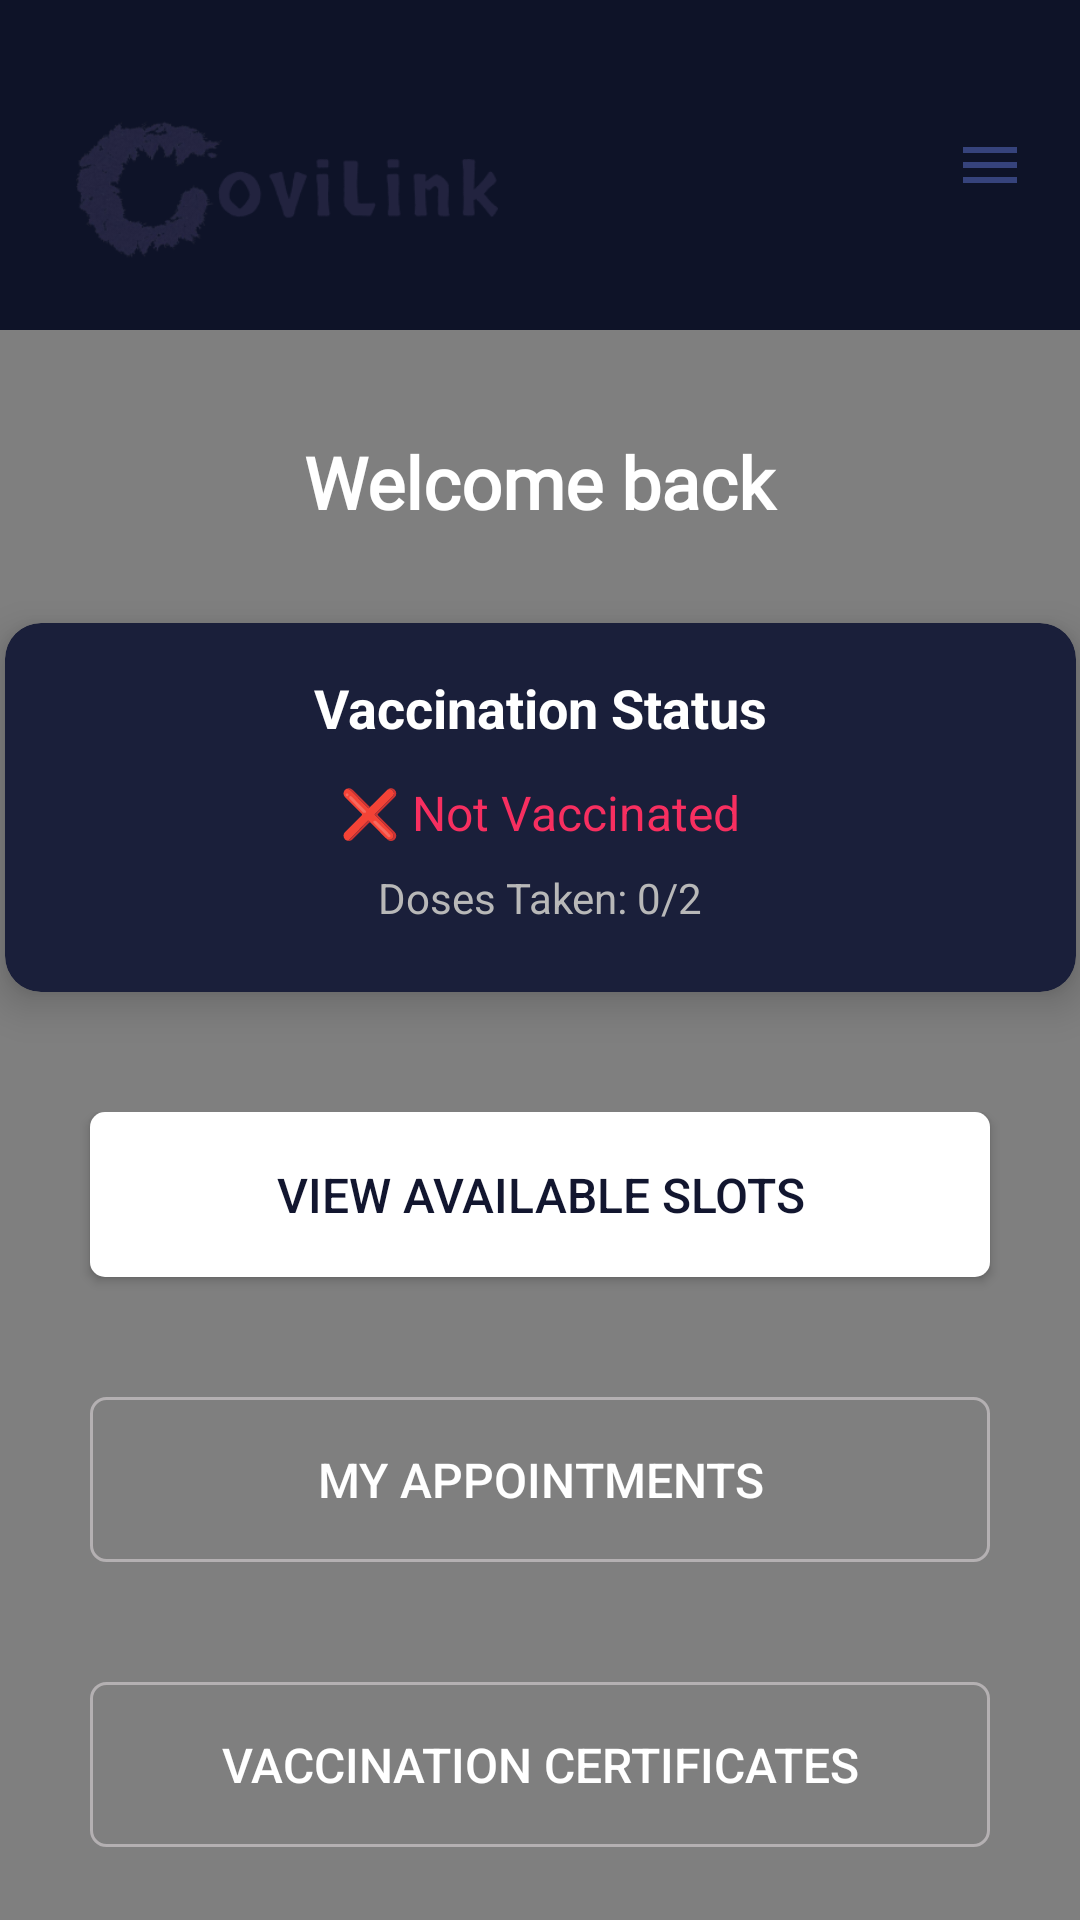

Icons on this 1080 x 1920 Android screen, each with its box as bbox(x1, y1, x2, y2):
menu: bbox(963, 147, 1017, 183)
